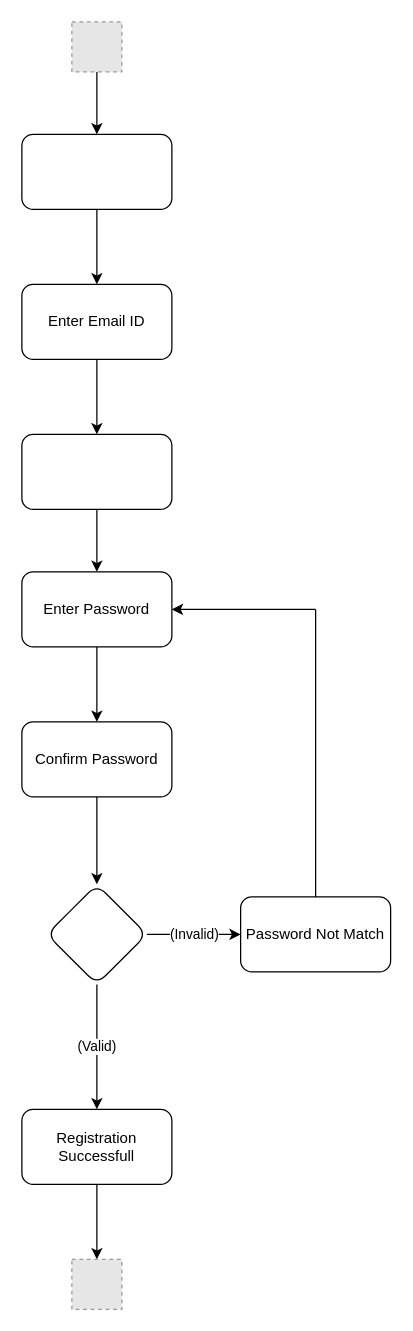
Some shapes in this 413 by 1331 pixel diagram are drawn without their labels. Grey dashed boxes stand in for pictures. The box of each missing label's shape, as (x1, y1, x2, y2) in pixels:
Enter Contact: (21, 433, 172, 509)
Enter Name: (21, 133, 172, 209)
